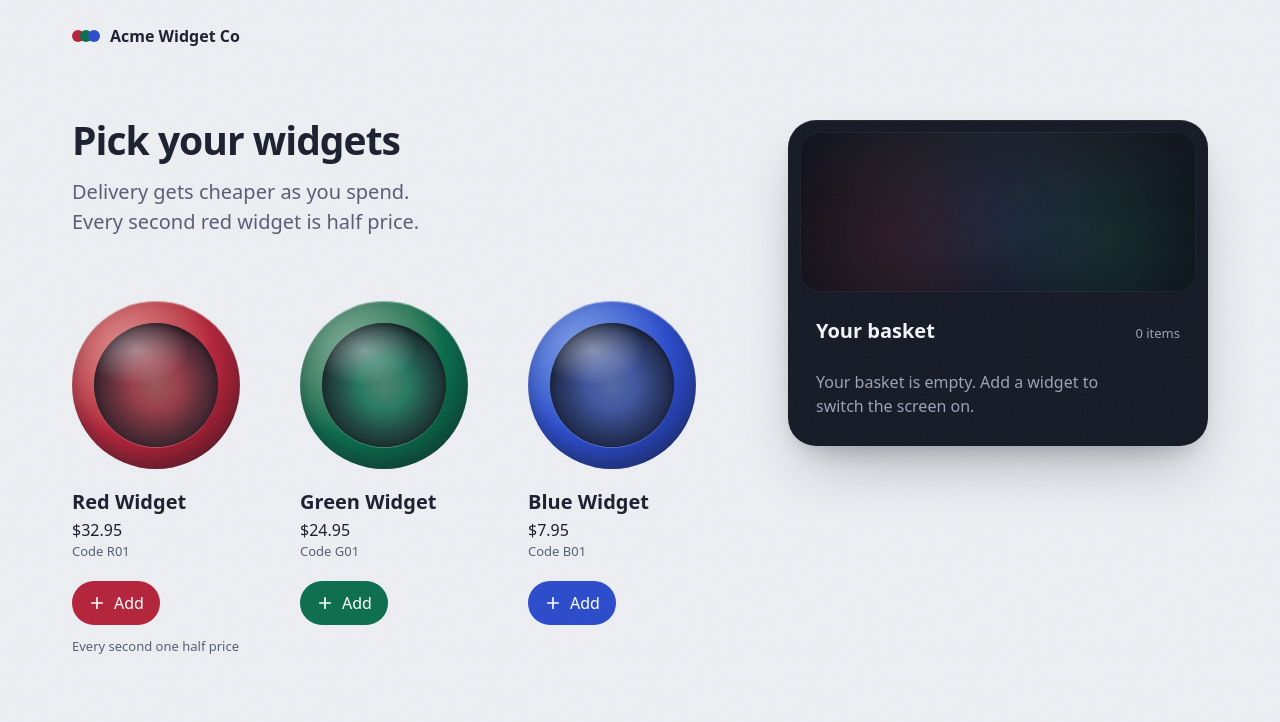
Test case: App › prices two red widgets added by hand, with the offer line
Step 1. Click the button with aria-label "Add Red Widget" → (116, 603), box [72,581,160,625]
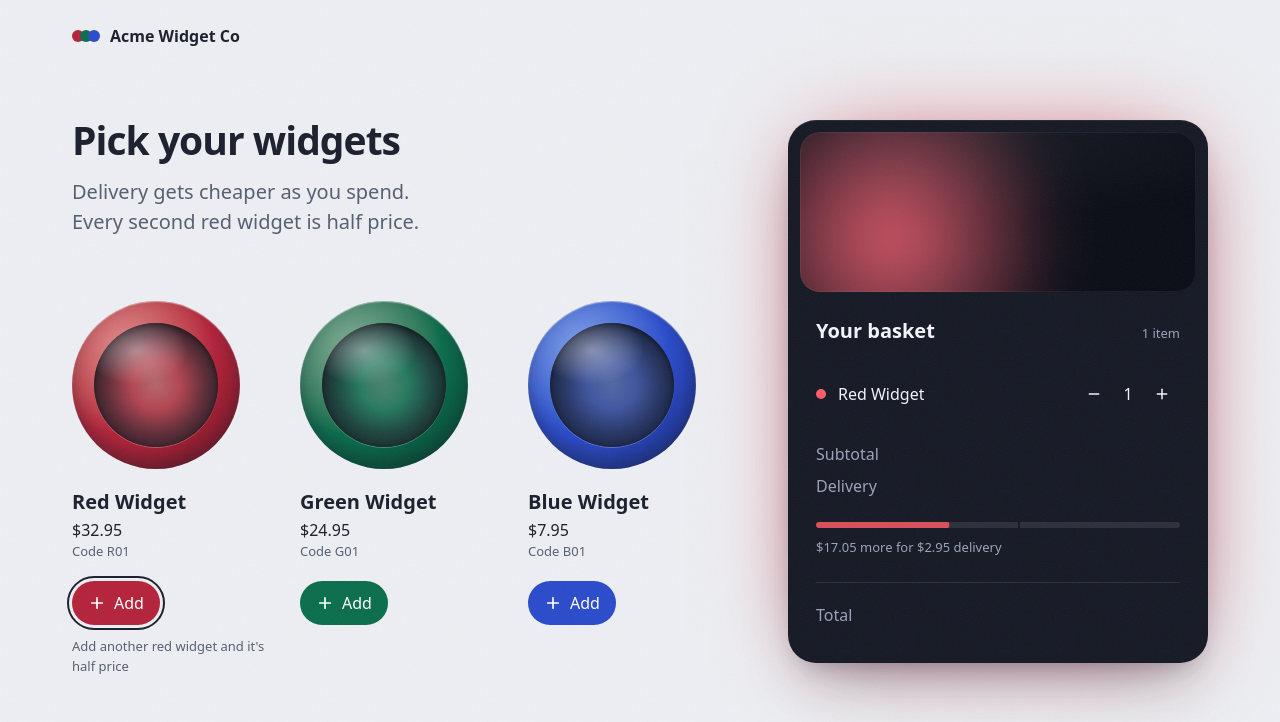
Step 2. Click the button with aria-label "Add Red Widget" → (116, 603), box [72,581,160,625]
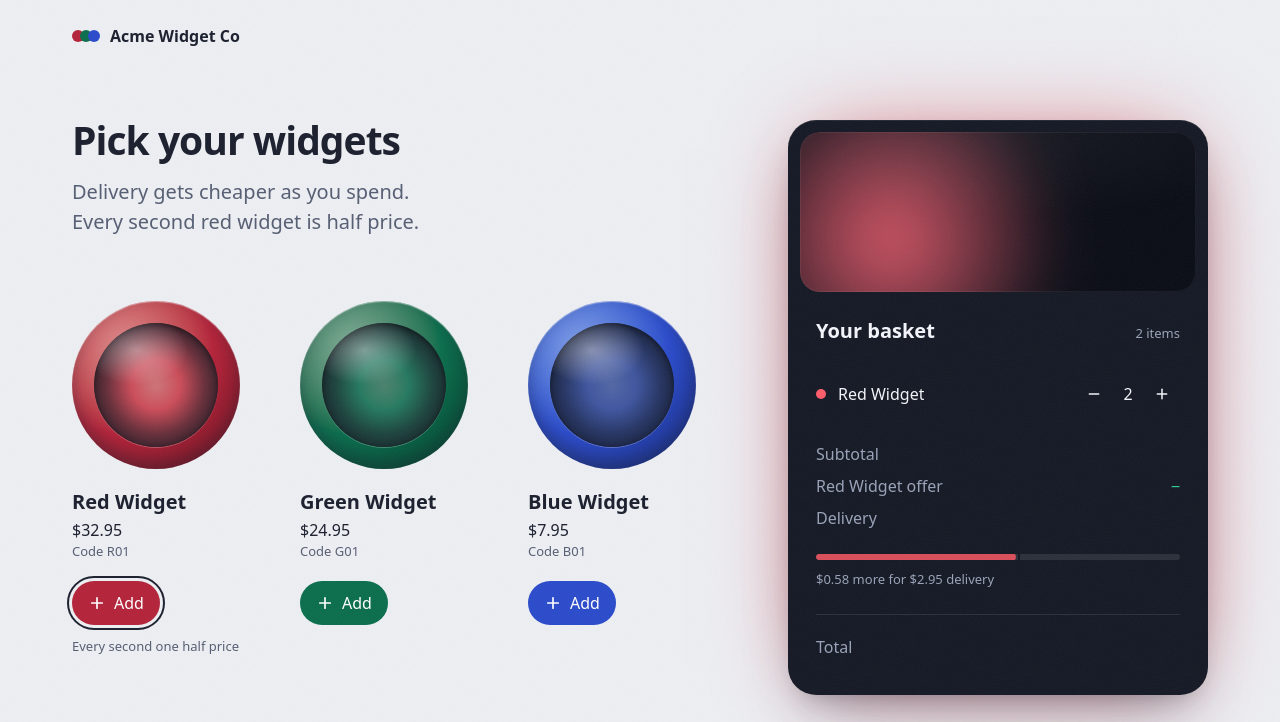
Expected: the text "Red Widget offer" is shown, [816,474,943,498]
Expected: the text "$0.58 more for $2.95 delivery" is shown, [816,570,994,588]
